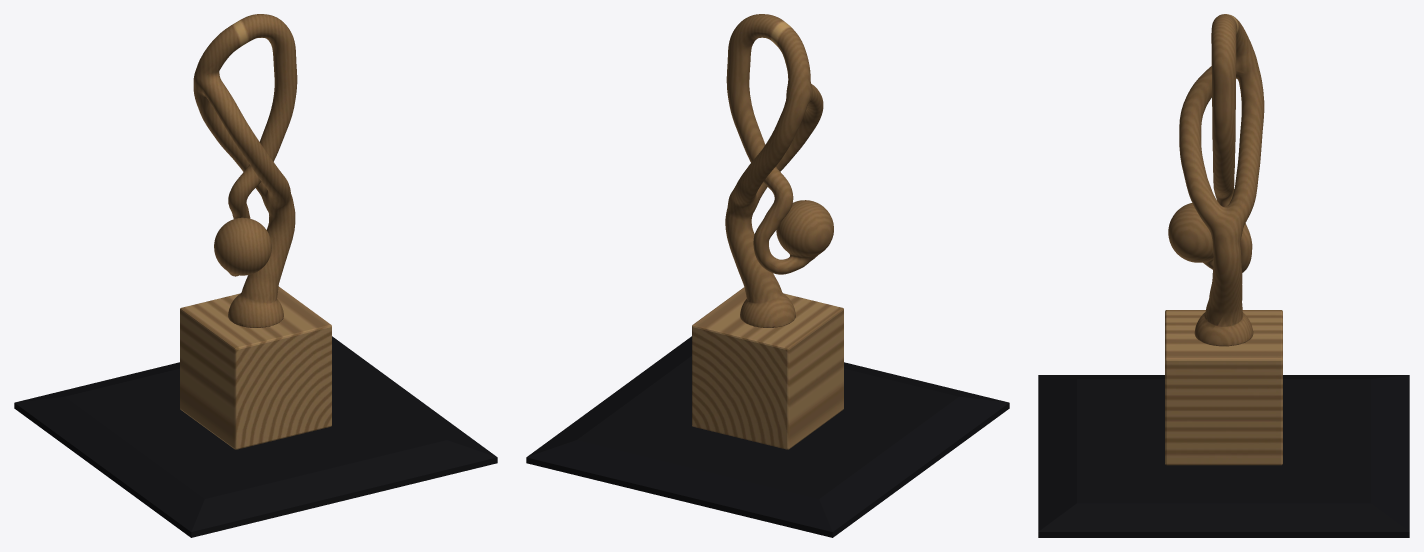
Rendered from karya-02.glb.
The picture shows the model from 3 angles, left to right: view 1: azimuth 30°, elevation 25°; view 2: azimuth 150°, elevation 25°; view 3: azimuth 270°, elevation 25°; orthographic projection. The views are drawn at different scales.
Parts seen in each view (by area): view 1: K02_Base, K02_Cube, K02_Wood; view 2: K02_Base, K02_Cube, K02_Wood; view 3: K02_Base, K02_Wood, K02_Cube.
Boxes of the visible parts, <box> form: K02_Base: <box>14,336,497,537</box>; K02_Cube: <box>180,286,331,449</box>; K02_Wood: <box>193,14,297,327</box>; K02_Base: <box>526,336,1009,537</box>; K02_Cube: <box>692,287,843,449</box>; K02_Wood: <box>725,14,833,327</box>; K02_Base: <box>1038,375,1409,537</box>; K02_Wood: <box>1168,14,1264,346</box>; K02_Cube: <box>1165,310,1282,465</box>.
Size of the model in its own units: 0.22 by 0.2882 by 0.22.
Materials: 3 (2 with a texture image).
